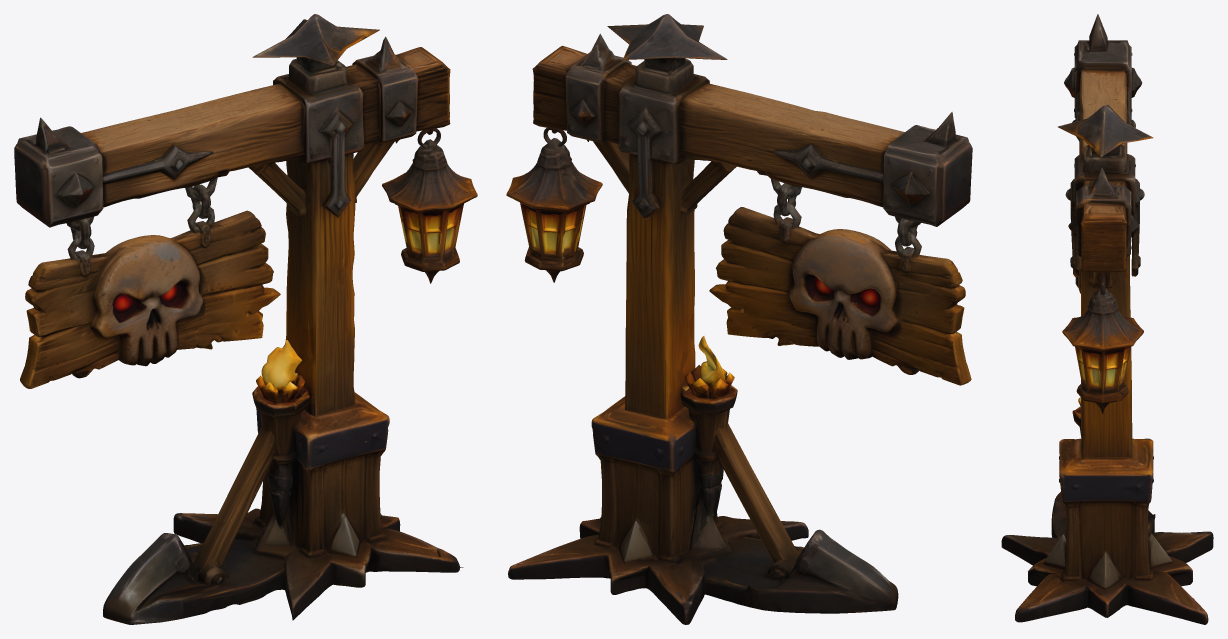
The model's file is pixellabs-skull-3331.high.glb.
3 renders of one model, left to right at view 1: azimuth 30°, elevation 25°; view 2: azimuth 150°, elevation 25°; view 3: azimuth 270°, elevation 25°, orthographic. The views are drawn at different scales.
Visible parts, largest first — view 1: material; view 2: material; view 3: material.
Part boxes in pixels (x1,y1,x2,y2): material: (14,14,477,624); material: (506,14,972,624); material: (1001,14,1213,624).
Size of the model in its own units: 0.8327 by 0.9609 by 0.3869.
1 material, 1 textured.
